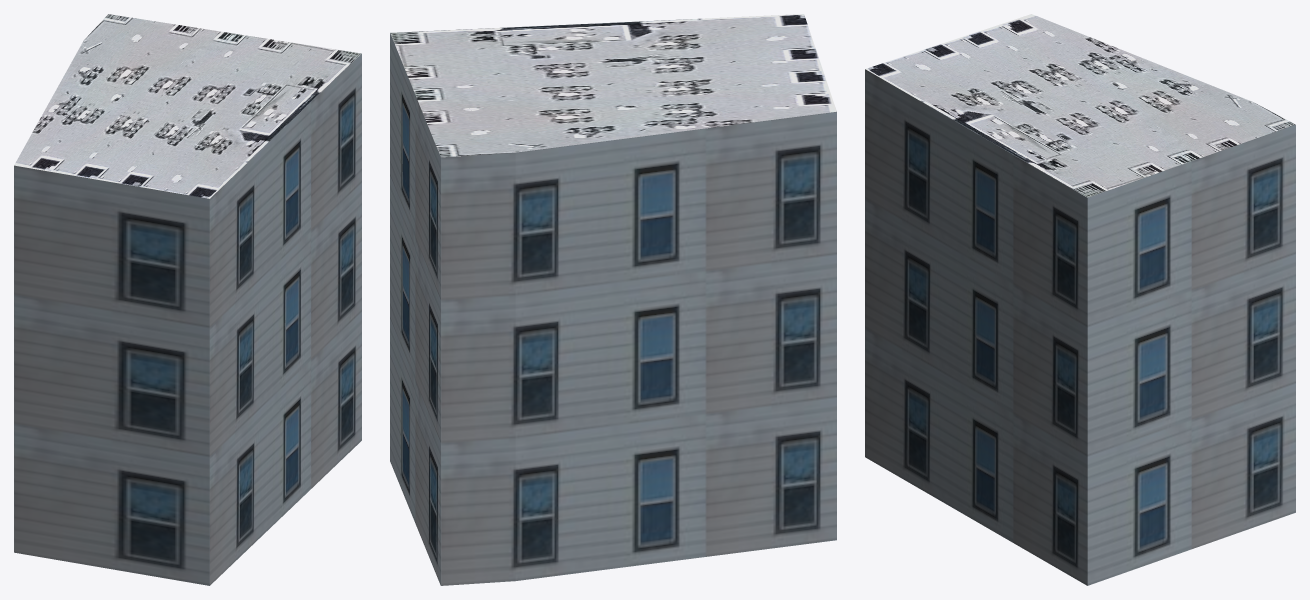
Rendered from ResTex__2878.fbx.
The picture shows the model from 3 angles, left to right: view 1: azimuth 30°, elevation 25°; view 2: azimuth 150°, elevation 25°; view 3: azimuth 270°, elevation 25°; orthographic projection. The views are drawn at different scales.
Parts seen in each view (by area): view 1: CityEngineMaterial_18_m, CityEngineMaterial_4_m; view 2: CityEngineMaterial_18_m, CityEngineMaterial_4_m; view 3: CityEngineMaterial_18_m, CityEngineMaterial_4_m.
Boxes of the visible parts, x1,y1,x2,y2 form: CityEngineMaterial_18_m: [14, 54, 361, 585]; CityEngineMaterial_4_m: [14, 14, 361, 198]; CityEngineMaterial_18_m: [390, 33, 836, 585]; CityEngineMaterial_4_m: [390, 14, 836, 157]; CityEngineMaterial_18_m: [865, 69, 1295, 585]; CityEngineMaterial_4_m: [865, 14, 1295, 197].
Bounding box in the file's own units: 9.14 × 9 × 9.05.
2 materials, 2 textured.
